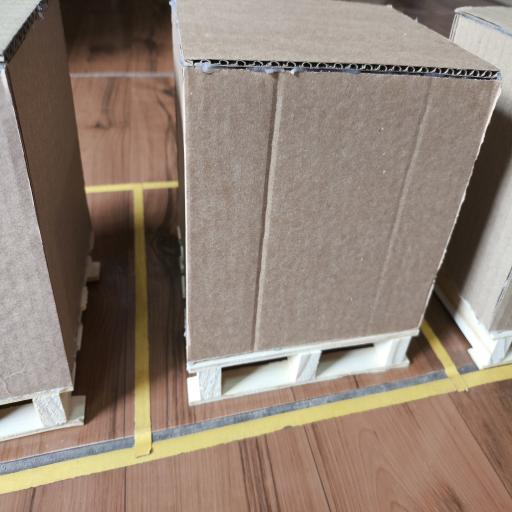pallet: (187, 330, 418, 404), (435, 271, 511, 369), (0, 387, 85, 441)
